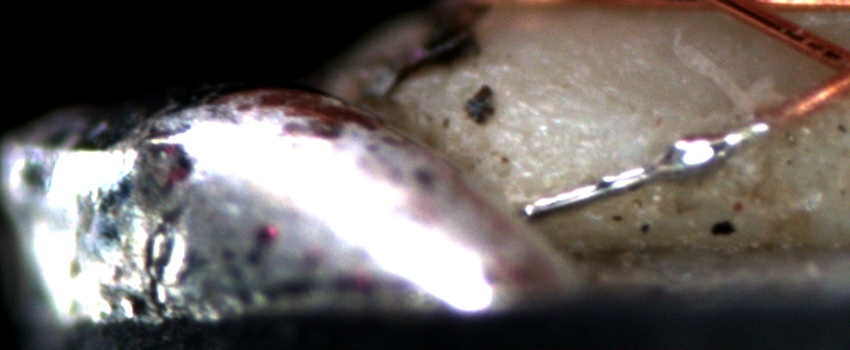TB: (658, 130, 734, 178)
TS: (521, 167, 654, 218)
TTCW: (518, 87, 823, 215)
